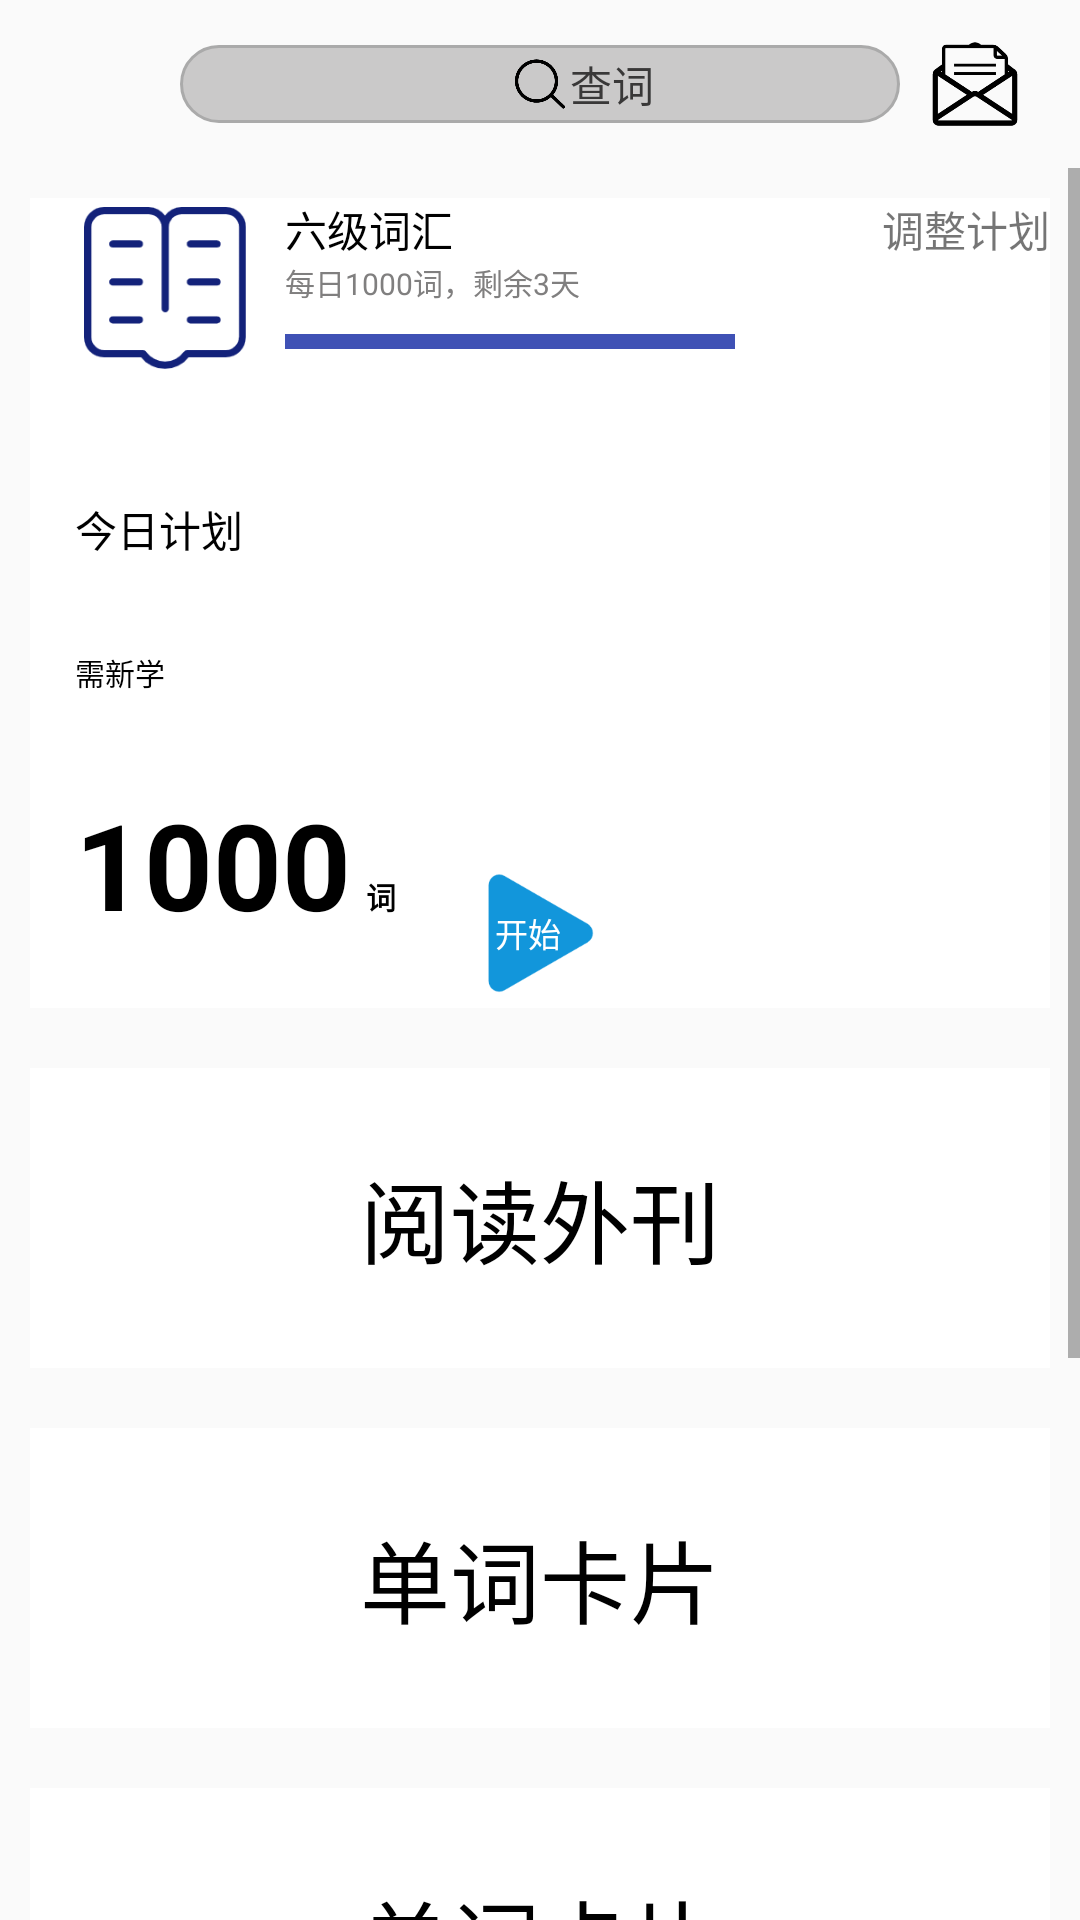

Named icons in this screenshot (1080px×1920px) and their bounding boxes, (x1, y1, x2, y2):
book: (84, 207, 246, 369)
